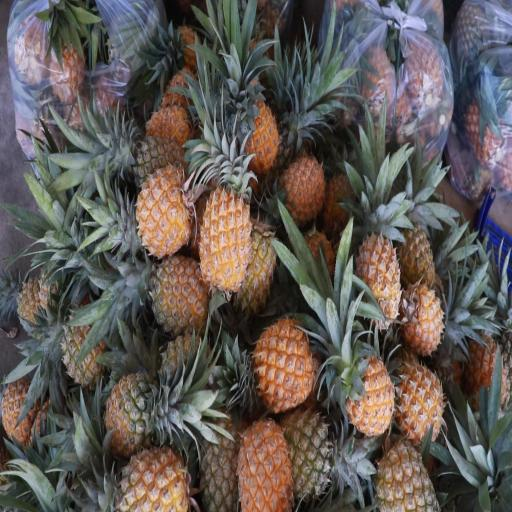------------------------------: (192, 369, 244, 511), (274, 404, 344, 500), (98, 373, 176, 459), (370, 434, 438, 512), (60, 302, 112, 397), (121, 136, 181, 182)
Pineapple - v8 v1: (248, 308, 314, 411), (200, 175, 253, 300), (141, 247, 212, 336), (132, 162, 195, 262), (233, 406, 292, 511), (352, 204, 401, 328), (338, 335, 394, 438), (110, 441, 191, 512), (390, 356, 448, 453), (232, 200, 278, 314), (273, 149, 327, 232), (392, 199, 438, 292), (396, 280, 446, 362), (239, 86, 282, 170)
